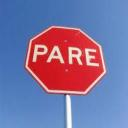Pare: (24, 25, 108, 98)
